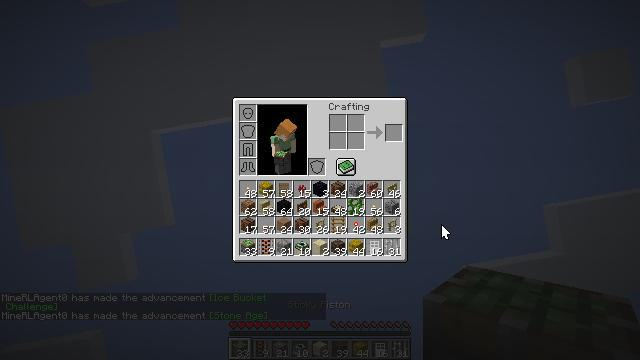cursor: (441, 224, 451, 240)
